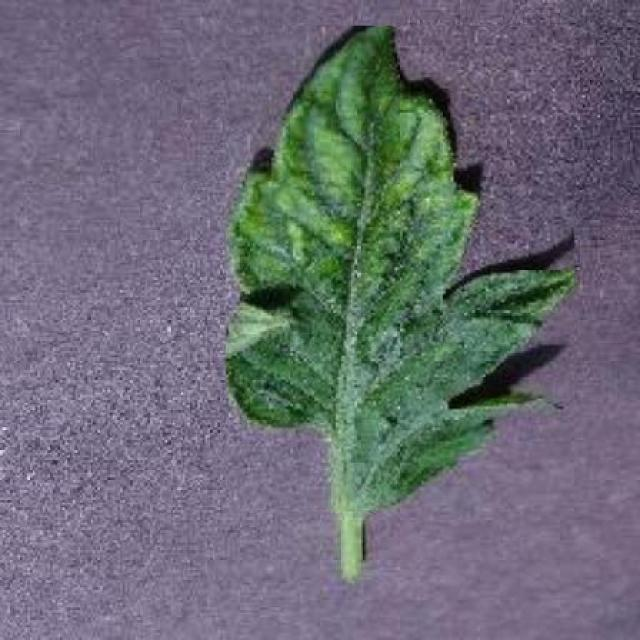Mosaic Virus: (226, 25, 574, 512)
